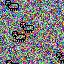sheep: (20, 22, 34, 34), (12, 31, 26, 43), (5, 0, 19, 11)
